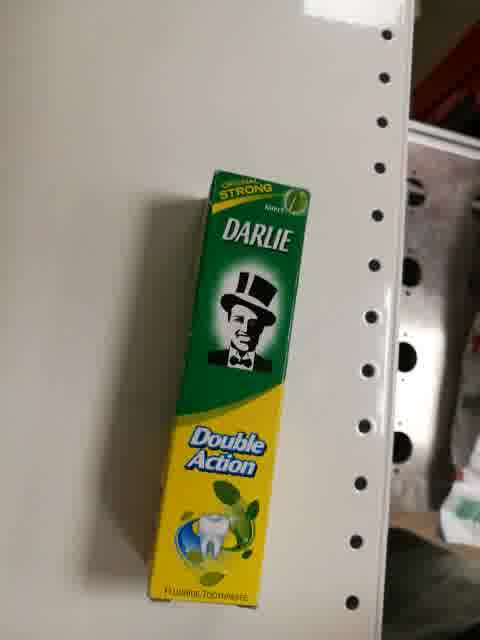toothpaste: (145, 164, 312, 610)
